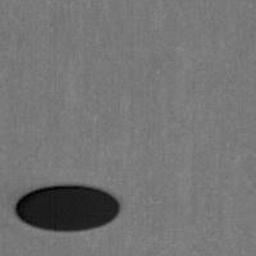Punching: (15, 186, 119, 232)
